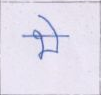e_matra: (34, 14, 61, 35)
